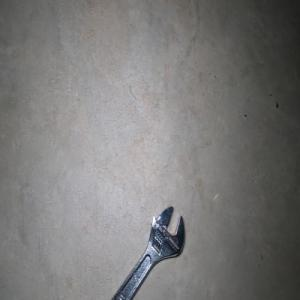Wrench: (111, 206, 184, 300)
